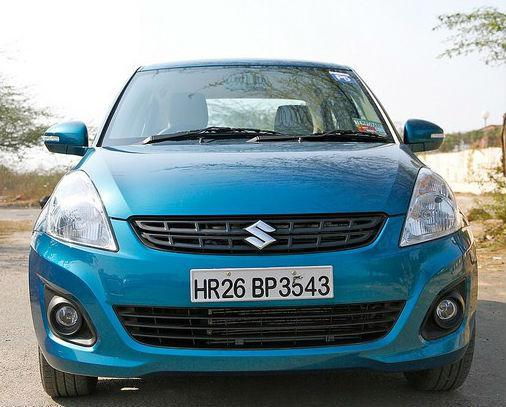licence-plate: (189, 268, 335, 303)
